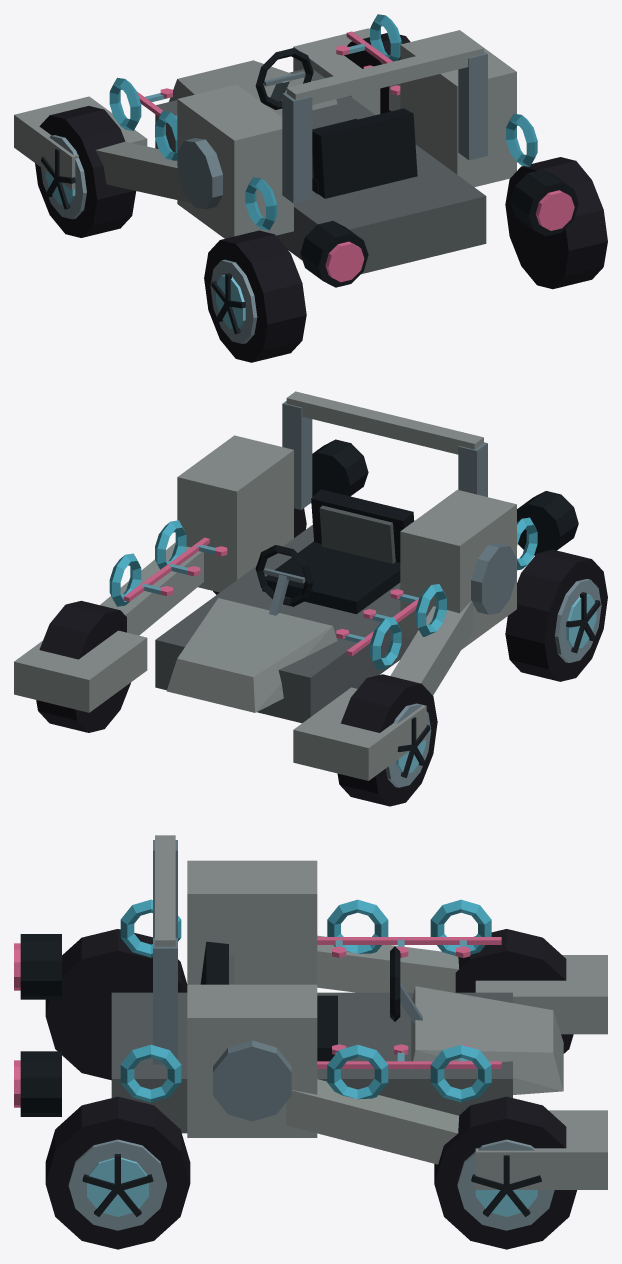
Rendered from kart.glb.
The picture shows the model from 3 angles, top to bottom: view 1: azimuth 30°, elevation 25°; view 2: azimuth 150°, elevation 25°; view 3: azimuth 270°, elevation 25°; orthographic projection. The views are drawn at different scales.
Visible parts, largest first — view 1: identity-mech-mech-articulated-limbs-and-open-harness, wheel-rear-left, identity-mech-driver-cockpit, wheel-front-left, wheel-rear-right, identity-mech-motif-thrusters, identity-mech-motif-water, identity-mech-motif-circuit, wheel-front-right; view 2: identity-mech-mech-articulated-limbs-and-open-harness, identity-mech-driver-cockpit, wheel-rear-left, wheel-front-left, wheel-front-right, identity-mech-motif-thrusters, identity-mech-motif-water, identity-mech-motif-circuit; view 3: identity-mech-mech-articulated-limbs-and-open-harness, wheel-rear-right, wheel-front-right, identity-mech-motif-water, wheel-rear-left, identity-mech-motif-thrusters, wheel-front-left, identity-mech-driver-cockpit, identity-mech-motif-circuit.
Boxes of the visible parts, x1,y1,x2,y2 form: identity-mech-mech-articulated-limbs-and-open-harness: [14, 28, 516, 274]; wheel-rear-left: [204, 230, 306, 362]; identity-mech-driver-cockpit: [255, 48, 417, 198]; wheel-front-left: [35, 106, 136, 237]; wheel-rear-right: [505, 157, 607, 289]; identity-mech-motif-thrusters: [300, 169, 578, 287]; identity-mech-motif-water: [109, 14, 537, 230]; identity-mech-motif-circuit: [137, 31, 400, 123]; wheel-front-right: [344, 33, 410, 113]; identity-mech-mech-articulated-limbs-and-open-harness: [14, 391, 516, 780]; identity-mech-driver-cockpit: [255, 489, 414, 615]; wheel-rear-left: [505, 549, 607, 681]; wheel-front-left: [337, 674, 437, 806]; wheel-front-right: [36, 600, 130, 732]; identity-mech-motif-thrusters: [312, 439, 578, 555]; identity-mech-motif-water: [109, 517, 537, 670]; identity-mech-motif-circuit: [123, 537, 418, 656]; identity-mech-mech-articulated-limbs-and-open-harness: [111, 835, 607, 1189]; wheel-rear-right: [45, 1096, 190, 1249]; wheel-front-right: [434, 1096, 576, 1249]; identity-mech-motif-water: [120, 899, 491, 1102]; wheel-rear-left: [45, 929, 187, 1080]; identity-mech-motif-thrusters: [14, 934, 61, 1116]; wheel-front-left: [455, 929, 573, 1053]; identity-mech-driver-cockpit: [200, 941, 422, 1061]; identity-mech-motif-circuit: [317, 937, 501, 1068].
Bounding box in the file's own units: 2.29 × 1.42 × 2.87.
